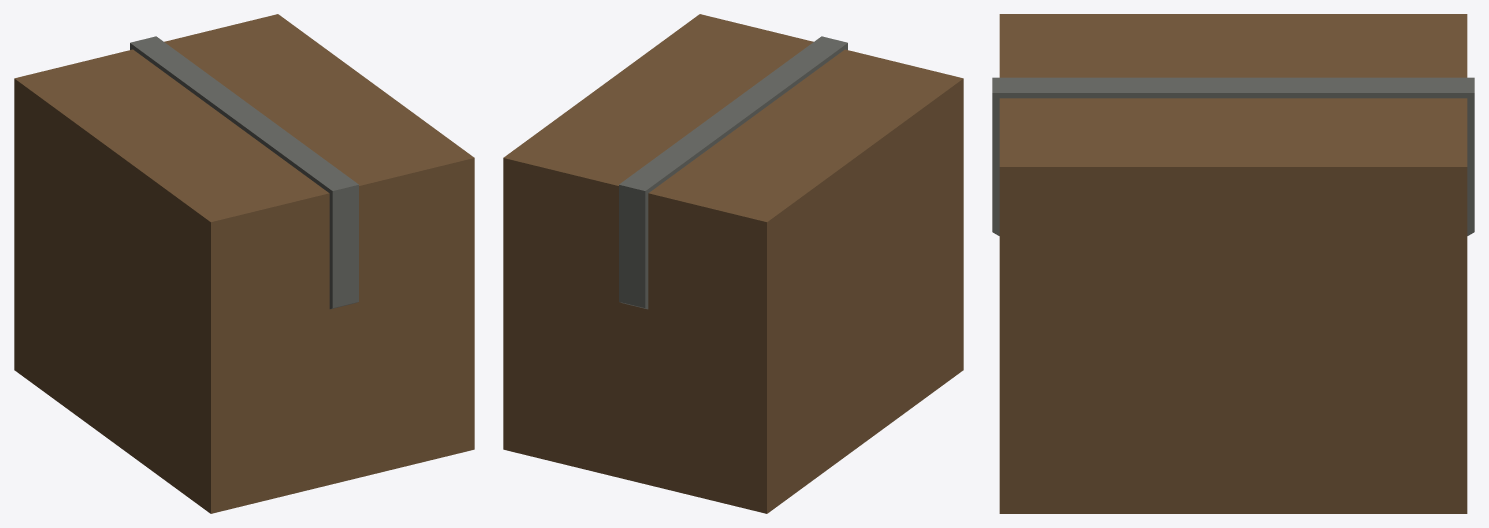
The picture shows the model from 3 angles, left to right: view 1: azimuth 30°, elevation 25°; view 2: azimuth 150°, elevation 25°; view 3: azimuth 270°, elevation 25°; orthographic projection. The views are drawn at different scales.
Visible parts, largest first — view 1: Cube, Cube.001; view 2: Cube, Cube.001; view 3: Cube, Cube.001.
Boxes of the visible parts, x1,y1,x2,y2 form: Cube: (14, 14, 474, 513); Cube.001: (130, 36, 358, 309); Cube: (503, 14, 963, 513); Cube.001: (619, 36, 847, 309); Cube: (999, 14, 1467, 513); Cube.001: (992, 77, 1474, 235).
Size of the model in its own units: 1.55 by 1.66 by 2.06.
